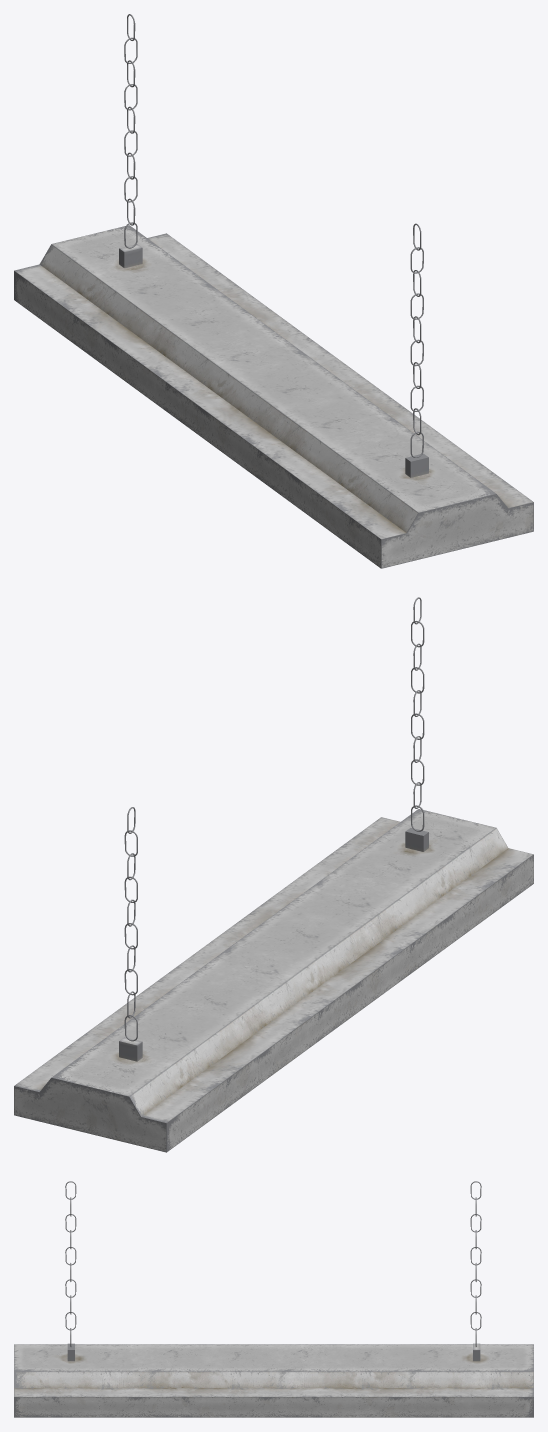
The model's file is worn_overlead_light.glb.
3 renders of one model, top to bottom at view 1: azimuth 30°, elevation 25°; view 2: azimuth 150°, elevation 25°; view 3: azimuth 270°, elevation 25°, orthographic. The views are drawn at different scales.
Visible parts, largest first — view 1: SM_light_case; view 2: SM_light_case; view 3: SM_light_case.
Part boxes in pixels (x1,y1,x2,y2): SM_light_case: [14, 225, 533, 568]; SM_light_case: [14, 809, 533, 1152]; SM_light_case: [14, 1343, 533, 1417].
Bounding box in the file's own units: 12.93 × 24.01 × 53.85.
Materials: 2 (2 with a texture image).
